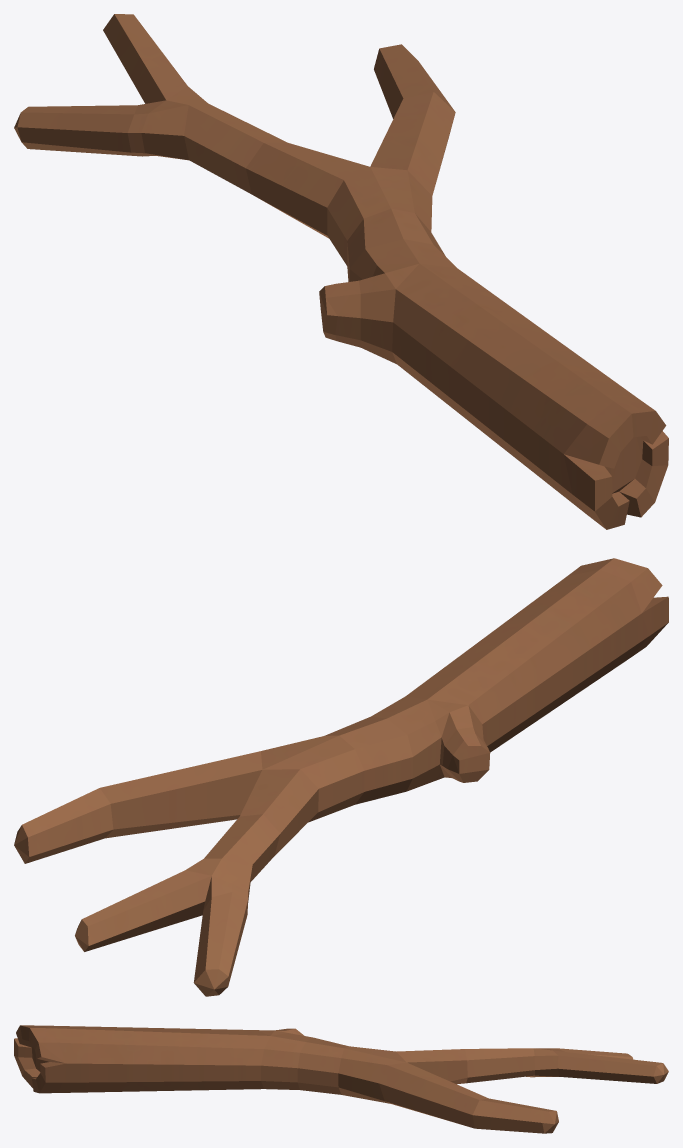
Rendered from Tree_Branch_06.fbx.
The picture shows the model from 3 angles, top to bottom: view 1: azimuth 30°, elevation 25°; view 2: azimuth 150°, elevation 25°; view 3: azimuth 270°, elevation 25°; orthographic projection. The views are drawn at different scales.
Visible parts, largest first — view 1: Tree_Branch_06; view 2: Tree_Branch_06; view 3: Tree_Branch_06.
Boxes of the visible parts, bbox=[...] form: Tree_Branch_06: bbox=[14, 14, 668, 529]; Tree_Branch_06: bbox=[14, 558, 668, 996]; Tree_Branch_06: bbox=[14, 1025, 668, 1133].
Size of the model in its own units: 61.16 by 20.35 by 190.
